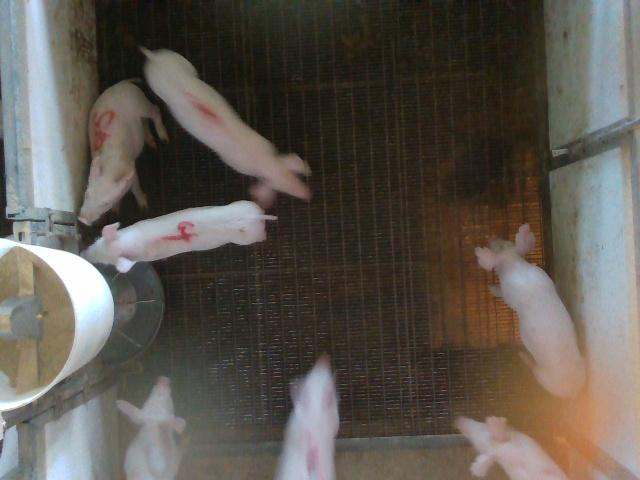pig-1: (142, 48, 311, 208)
pig-4: (81, 201, 276, 272)
pig-5: (79, 80, 169, 224)
